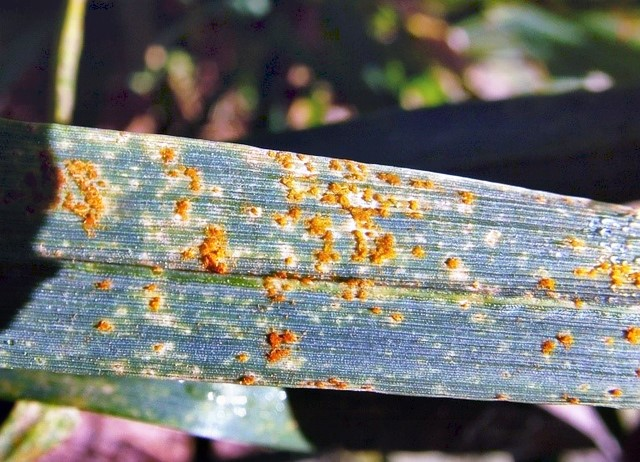Leaf Rust: (64, 137, 538, 384)
